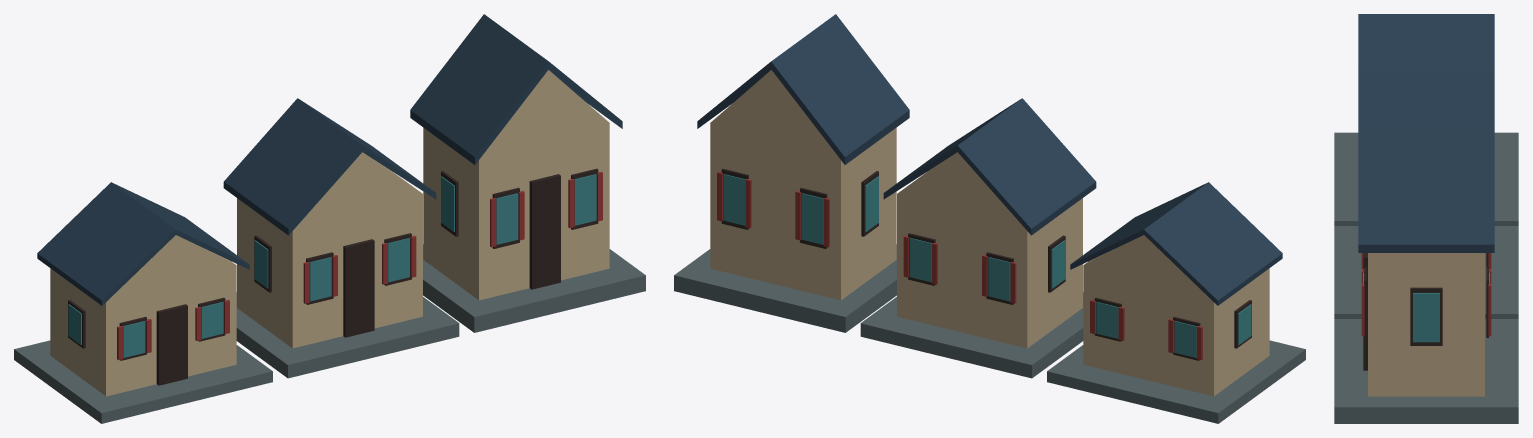
File: PirateCove_BackdropRow_Simple.glb
3 renders of one model, left to right at view 1: azimuth 30°, elevation 25°; view 2: azimuth 150°, elevation 25°; view 3: azimuth 270°, elevation 25°, orthographic. The views are drawn at different scales.
Parts seen in each view (by area): view 1: PirateCove_BackdropRow_Simple; view 2: PirateCove_BackdropRow_Simple; view 3: PirateCove_BackdropRow_Simple.
Boxes of the visible parts, x1,y1,x2,y2 form: PirateCove_BackdropRow_Simple: (14, 14, 645, 423); PirateCove_BackdropRow_Simple: (674, 14, 1305, 423); PirateCove_BackdropRow_Simple: (1334, 14, 1518, 423).
Size of the model in its own units: 18.98 by 8.07 by 5.28.
